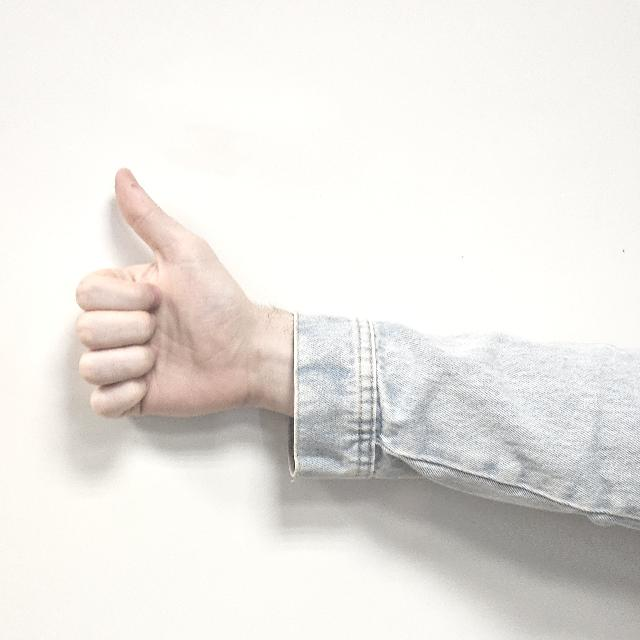Start: (74, 149, 264, 439)
